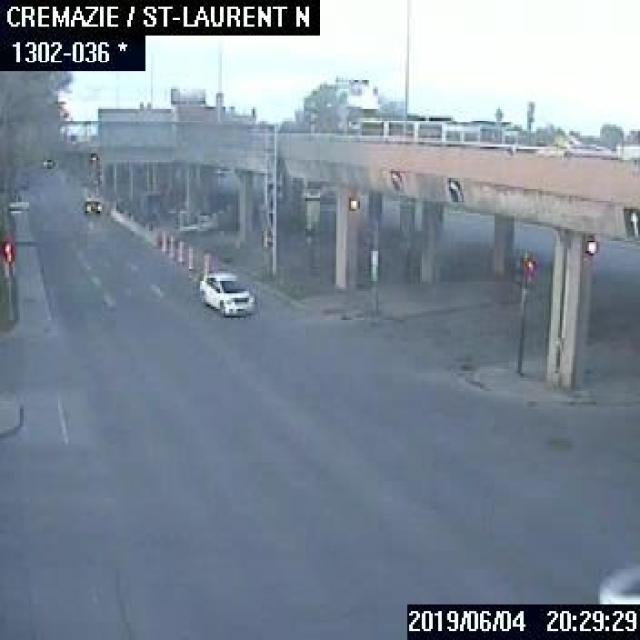construction: (160, 228, 166, 252), (187, 245, 193, 268), (168, 232, 174, 255), (176, 240, 182, 263), (203, 252, 209, 275)
vehicle: (192, 266, 255, 318), (595, 560, 638, 600), (82, 196, 104, 216), (40, 155, 55, 169)
